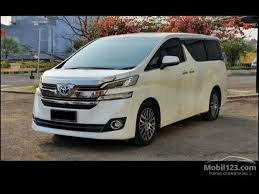mobil: (31, 31, 233, 147)
